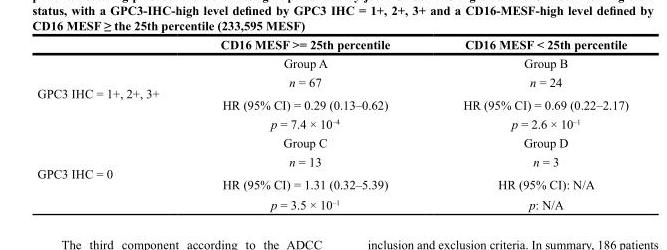table: (36, 36, 628, 211)
table column: (189, 36, 425, 211), (425, 36, 628, 211), (36, 36, 189, 211)
table column header: (36, 36, 628, 53)
table row: (36, 172, 628, 194), (36, 72, 628, 93), (36, 151, 628, 172), (36, 93, 628, 113), (36, 53, 628, 72), (36, 113, 628, 132), (36, 132, 628, 151), (36, 36, 628, 53), (36, 194, 628, 211)
table spanning cell: (36, 53, 189, 132), (36, 132, 189, 211)
